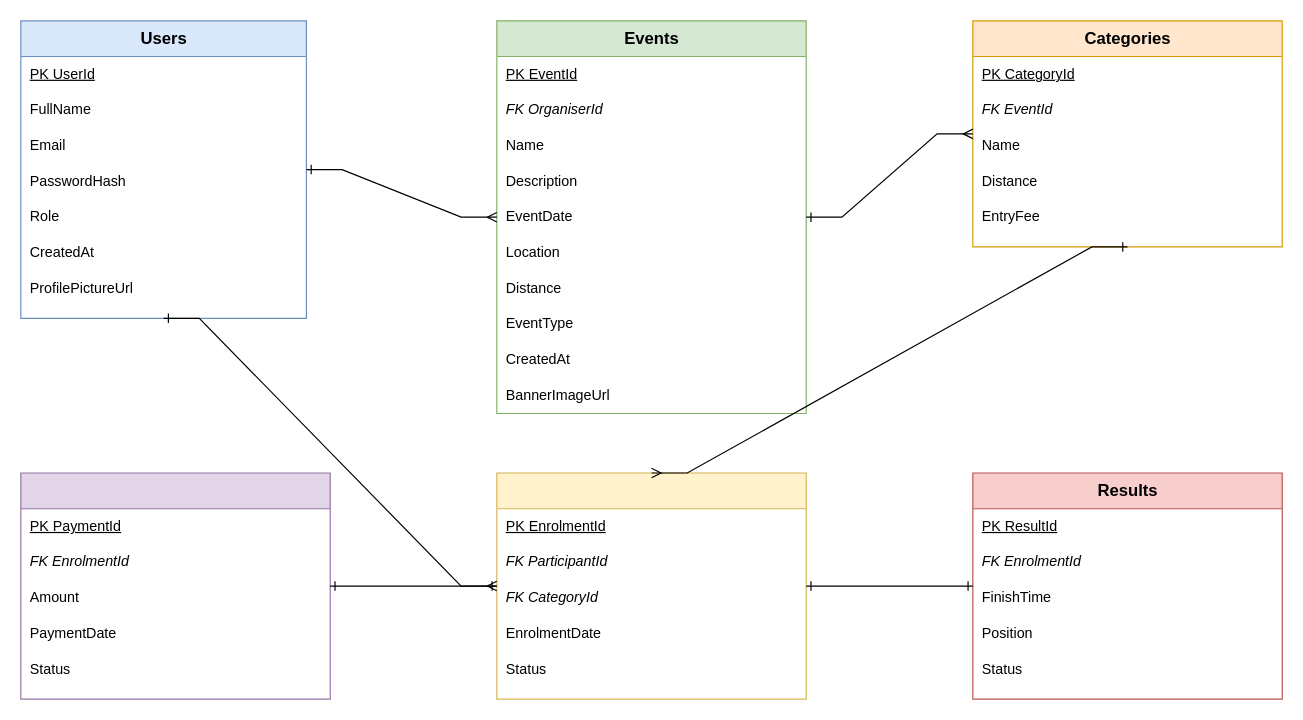
This 1303x720 diagram has some shape labels left out. Each missing label, with the box of its shape:
Enrolments: (496, 472, 806, 699)
Payments: (20, 472, 330, 699)
